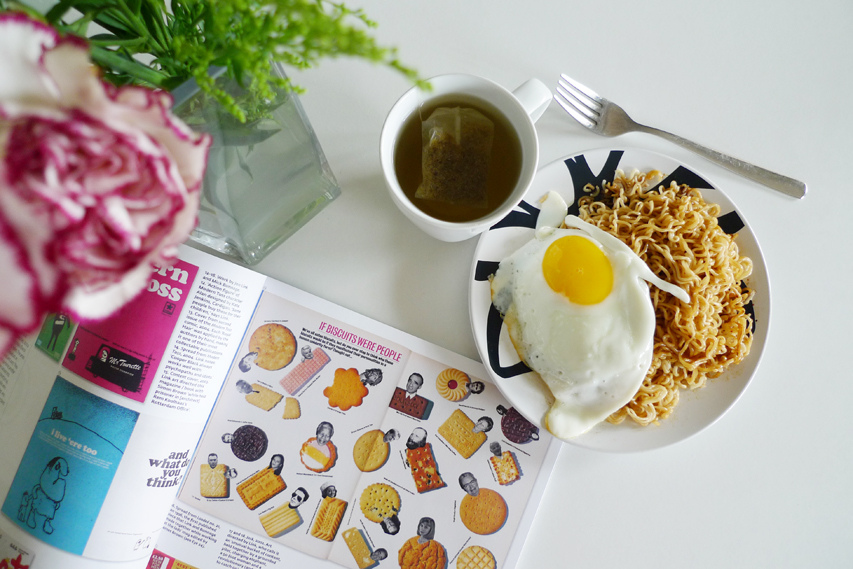fried egg: (494, 226, 645, 449)
plain spaghetti: (640, 184, 756, 429)
